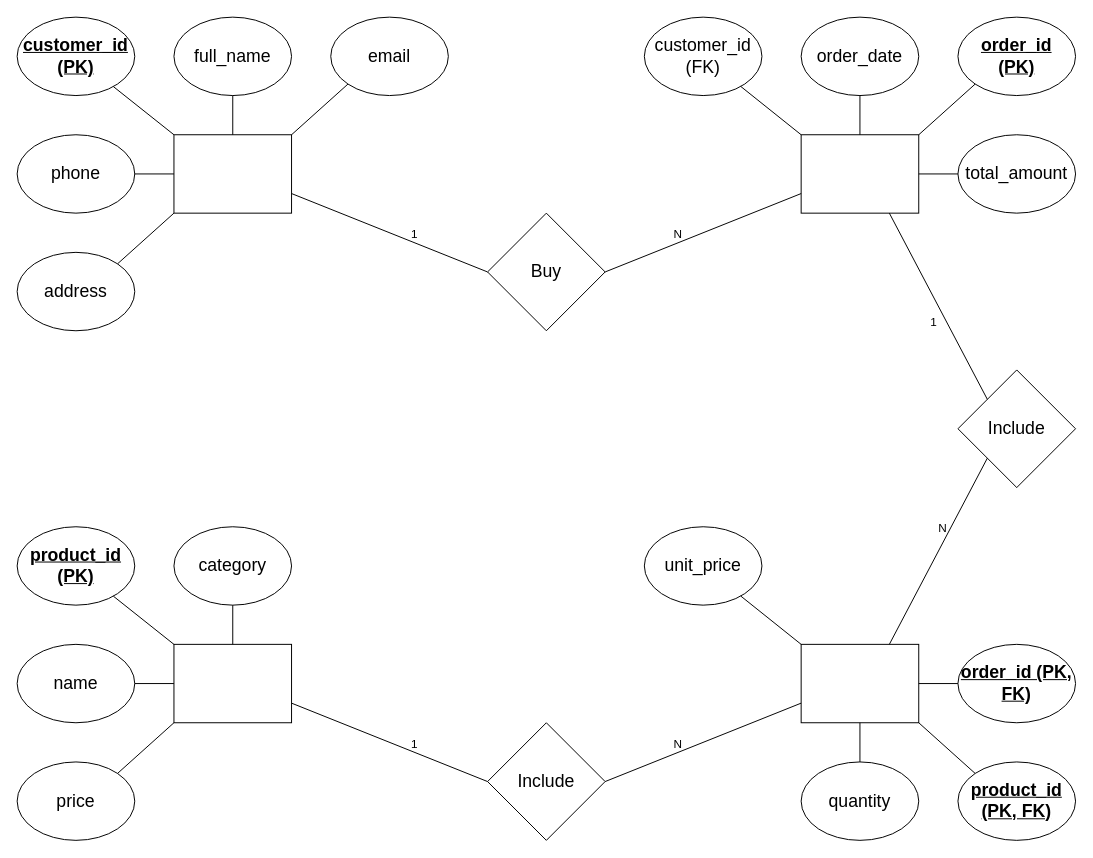
Image size: 1093x858. Some labels were removed from this diagram. The shapes that lost their labels are listed below. From the top down, each one's centre as x and y in pixels, then its label:
the point at 232,173: Customer
the point at 859,173: Order
the point at 232,683: Product
the point at 859,683: Order_Detail
